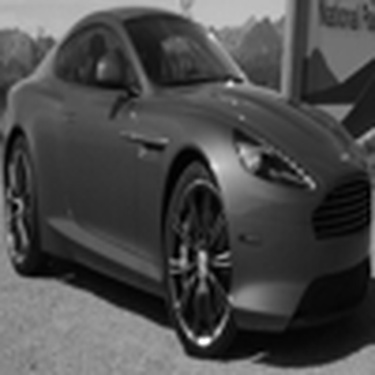car: (30, 13, 359, 348)
